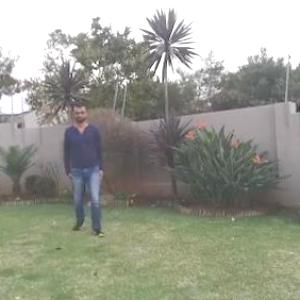follow: (66, 98, 105, 231)
